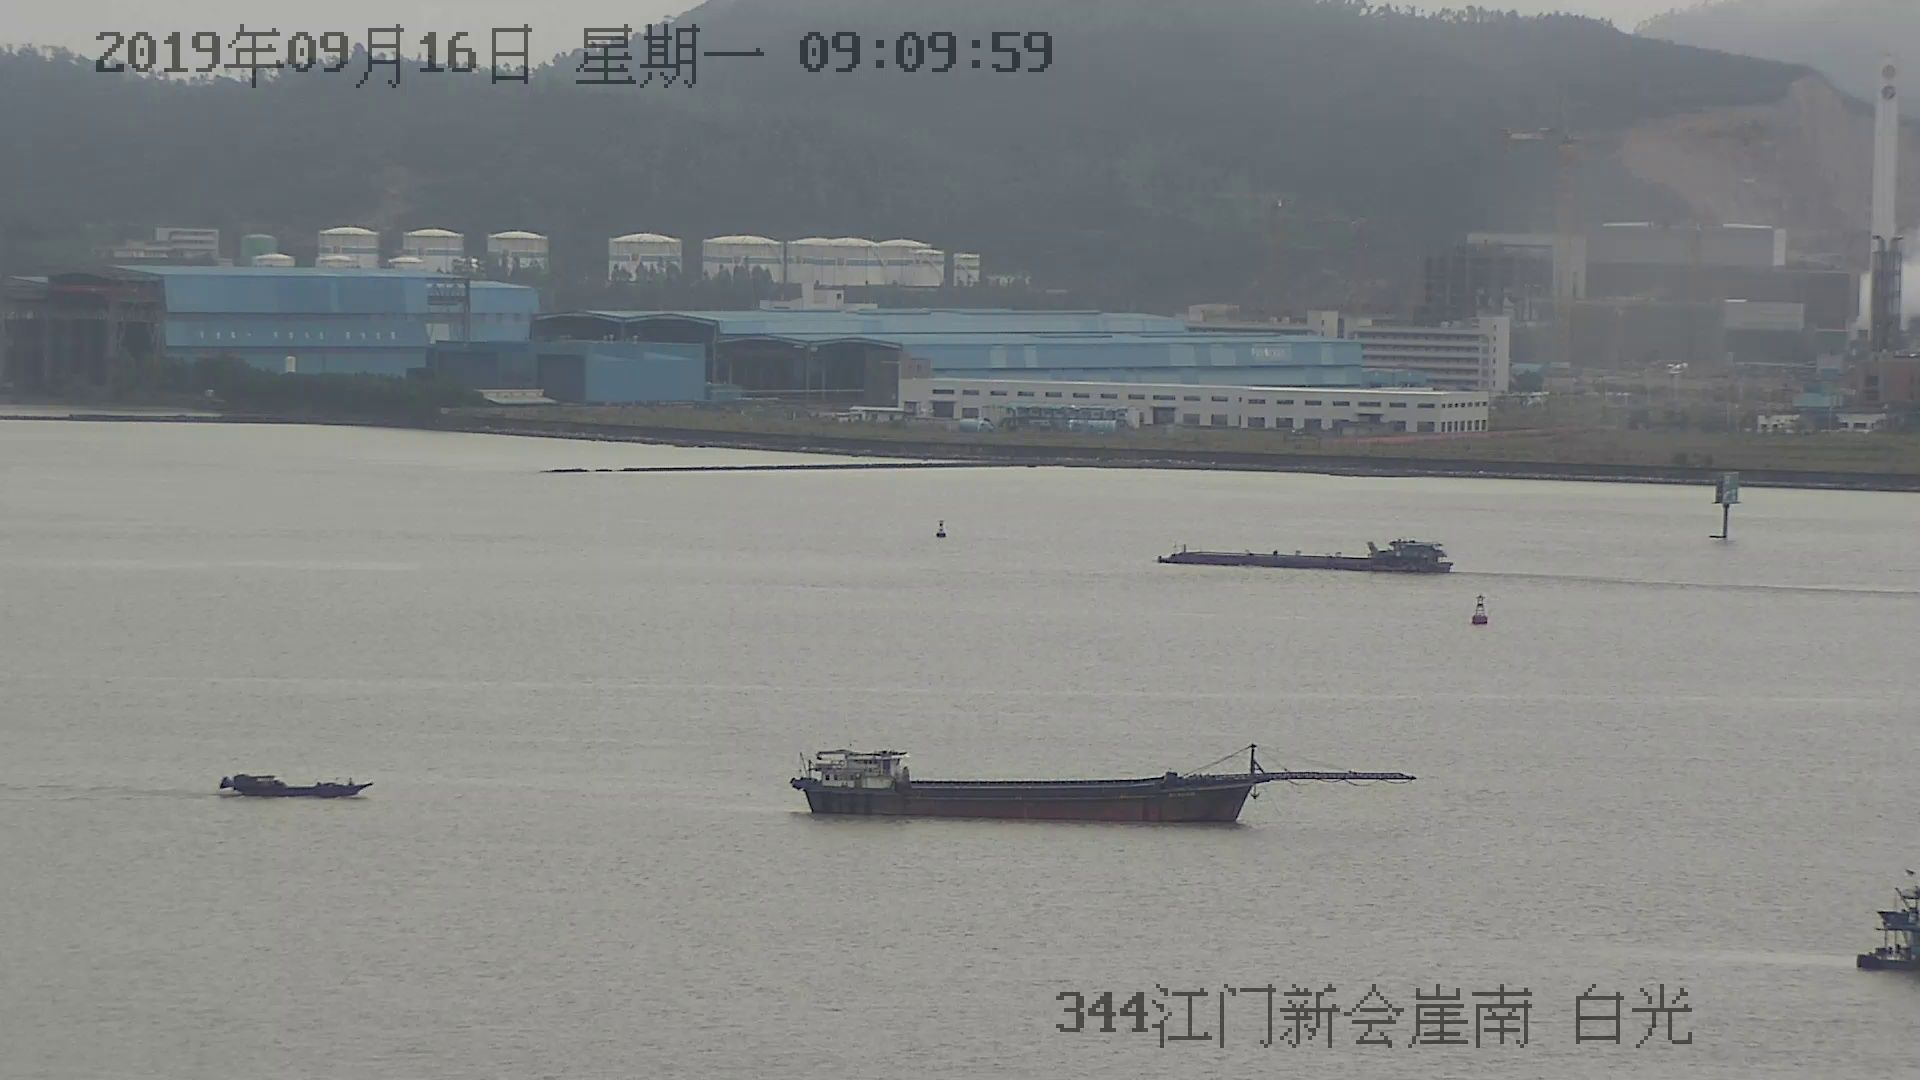ship: (791, 737, 1416, 825), (1153, 524, 1453, 579), (208, 756, 371, 802), (1855, 868, 1917, 972)
